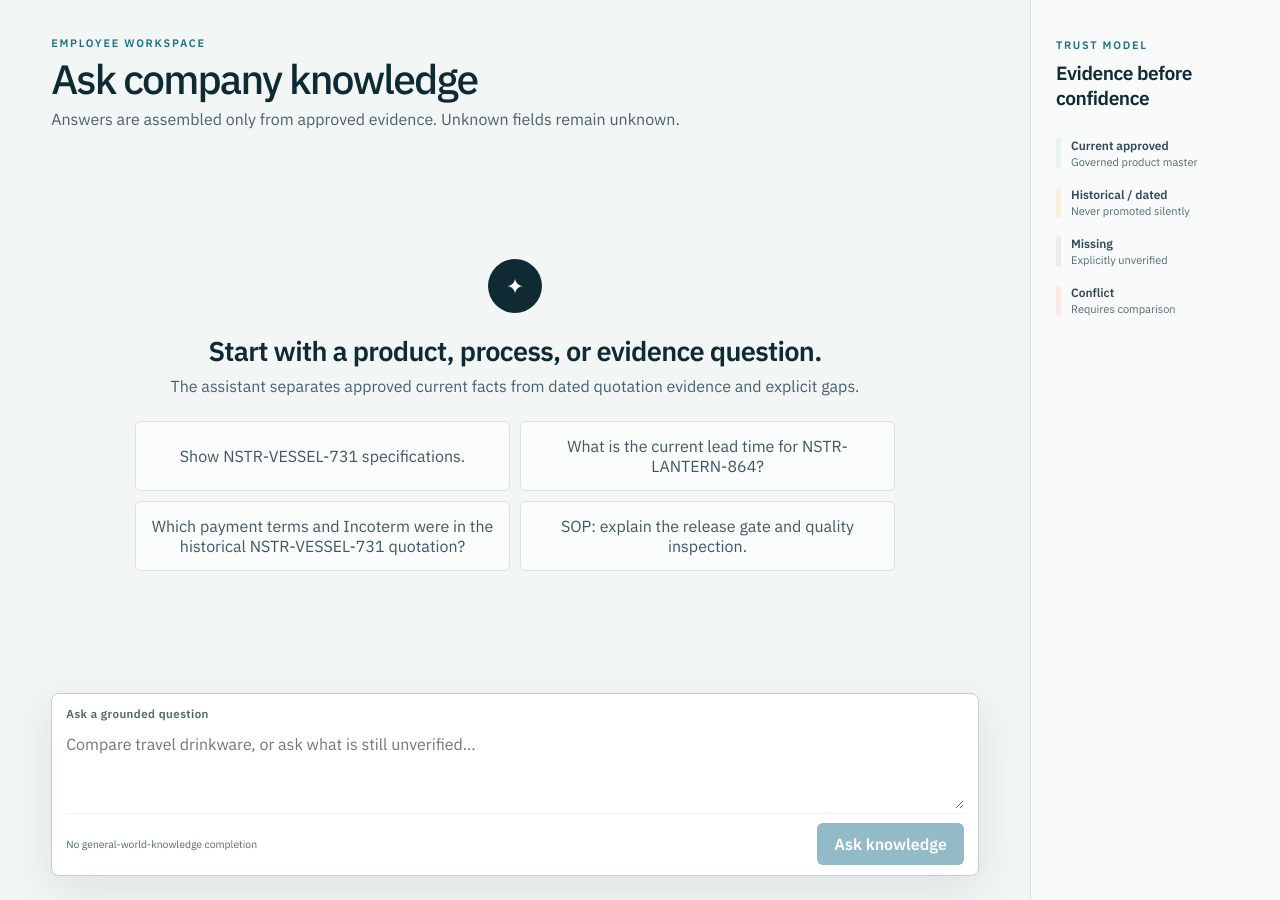
unsupported fact is visibly unverified
This screenshot has width=1280, height=900.
Click the button "What is the current lead time for NSTR-LANTERN-864?" at (708, 456), box left=520, top=421, right=895, bottom=491
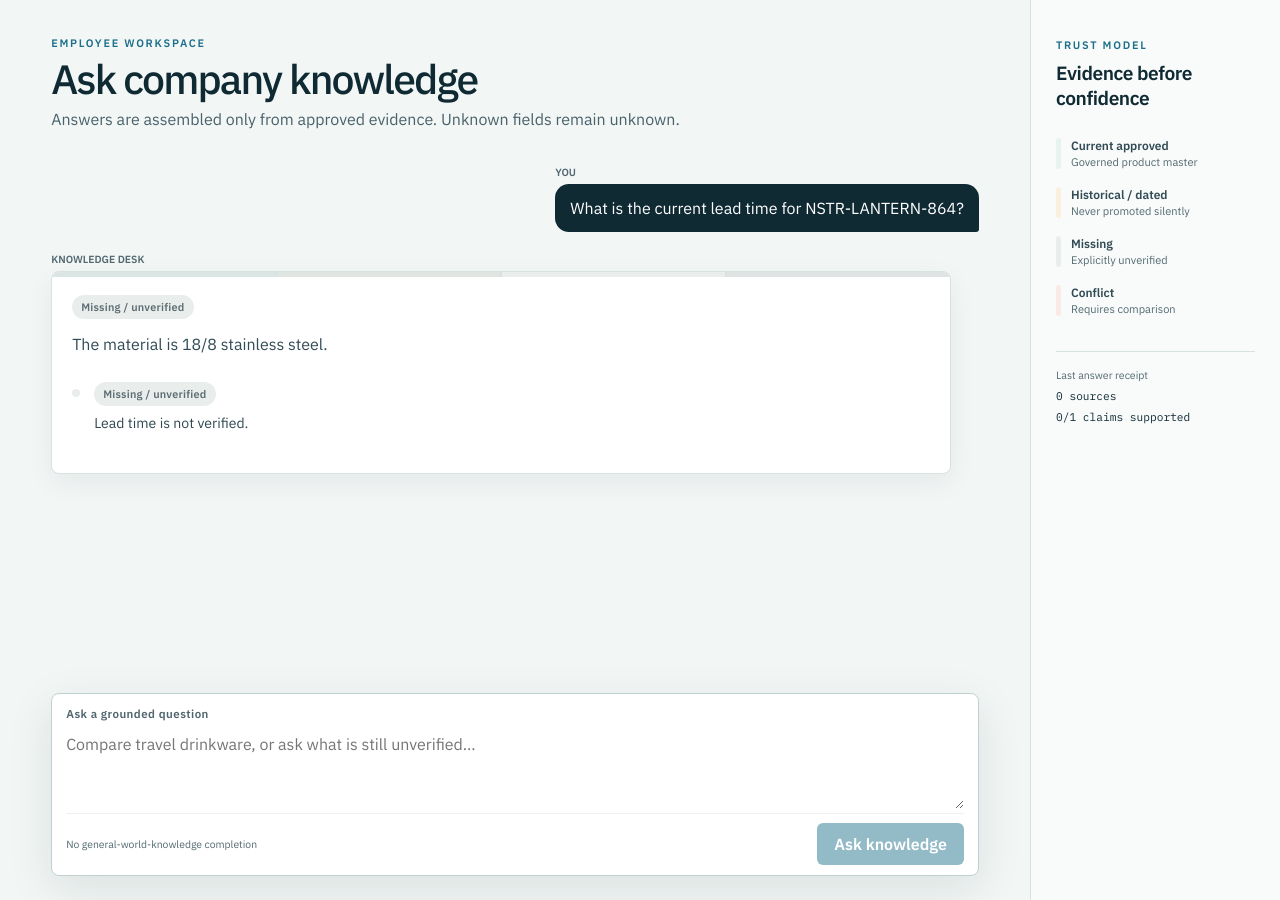
Check: the text "Lead time is not verified." is shown, box left=94, top=414, right=248, bottom=432
